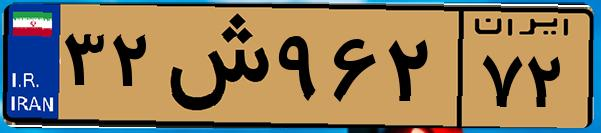2: (385, 28, 445, 110), (525, 38, 570, 115), (110, 28, 158, 98)
3: (57, 26, 110, 100)
6: (330, 28, 385, 110)
7: (475, 38, 525, 113)
9: (270, 28, 330, 110)
ش: (158, 12, 270, 120)
